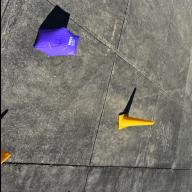cone: (117, 112, 153, 130), (0, 150, 10, 166)
cube: (32, 27, 78, 57)
